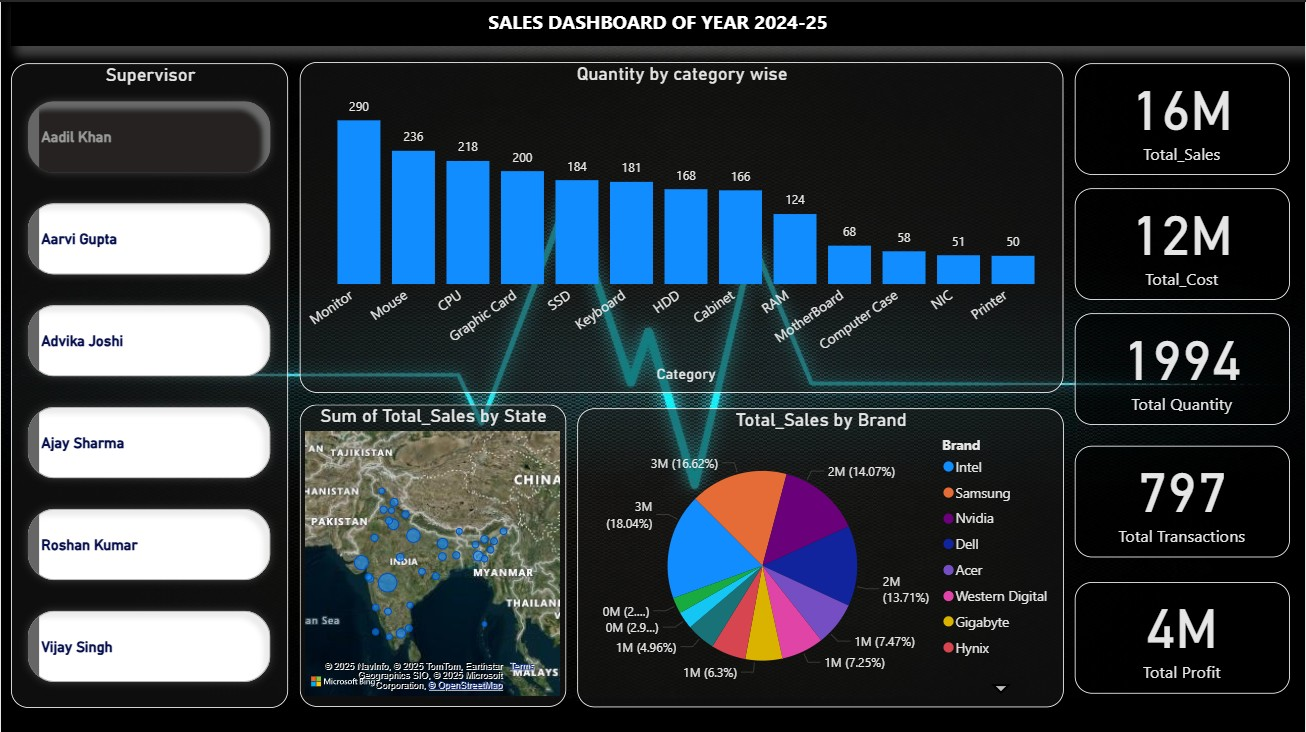

Layout of this report page (visuals, bound fields, positions):
{"tool":"powerbi","page":{"name":"Page 1","canvas":[1280,720],"ordinal":0},"visuals":[{"type":"textbox","box":[10,0,1270.1,43.5],"z":0},{"type":"card","fields":{"Values":["Sales_Data.Total_Sales"]},"box":[1054,60.1,211,109.2],"z":1000},{"type":"card","fields":{"Values":["Sales_Data.Total_Cost"]},"box":[1054,182.8,211,109.2],"z":2000},{"type":"card","fields":{"Values":["Sales_Data.Quantity"]},"box":[1054,305.5,211,109.2],"z":3000},{"type":"card","fields":{"Values":["Sales_Data.Order_Number"]},"box":[1054,435.6,211,109.2],"z":4000},{"type":"card","fields":{"Values":["Sales_Data.Total Profit"]},"box":[1054,569.3,211,109.2],"z":5000},{"type":"clusteredColumnChart","title":"Quantity by category wise","fields":{"Y":["Sales_Data.Quantity"],"Category":["Sales_Data.Category"]},"box":[293.3,58.9,749.7,325.2],"z":6000},{"type":"pieChart","fields":{"Y":["Sales_Data.Total_Sales"],"Category":["Sales_Data.Brand"]},"box":[565.6,398.8,477.3,293.3],"z":7000},{"type":"map","fields":{"Size":["Sales_Data.Total_Sales"],"Category":["State_list.State"]},"box":[293.3,395.1,261.4,296.9],"z":8000},{"type":"advancedSlicerVisual","fields":{"Values":["Supervisor.Supervisor"]},"box":[9.8,60.1,272.4,633.1],"z":9000}]}

Visuals, with their boxes in screenshot pixels (x1, y1, x2, y2), scaled from the page's 1280x720 canvas onto the 1306x732 screenshot:
textbox: 10,0,1305,44
card - Sales_Data.Total_Sales: 1075,61,1291,172
card - Sales_Data.Total_Cost: 1075,186,1291,297
card - Sales_Data.Quantity: 1075,311,1291,422
card - Sales_Data.Order_Number: 1075,443,1291,554
card - Sales_Data.Total Profit: 1075,579,1291,690
"Quantity by category wise" clusteredColumnChart: 299,60,1064,391
pieChart - Sales_Data.Total_Sales x Sales_Data.Brand: 577,405,1064,704
map - Sales_Data.Total_Sales x State_list.State: 299,402,566,704
advancedSlicerVisual - Supervisor.Supervisor: 10,61,288,705
